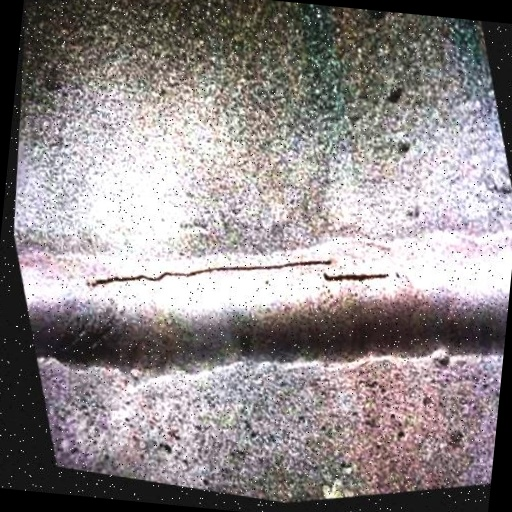crack: (72, 206, 347, 340), (310, 255, 392, 304)
